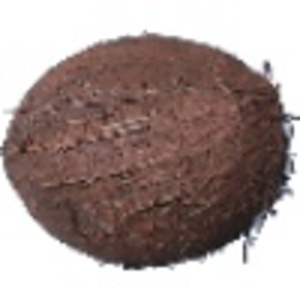coco: (3, 34, 300, 270)
